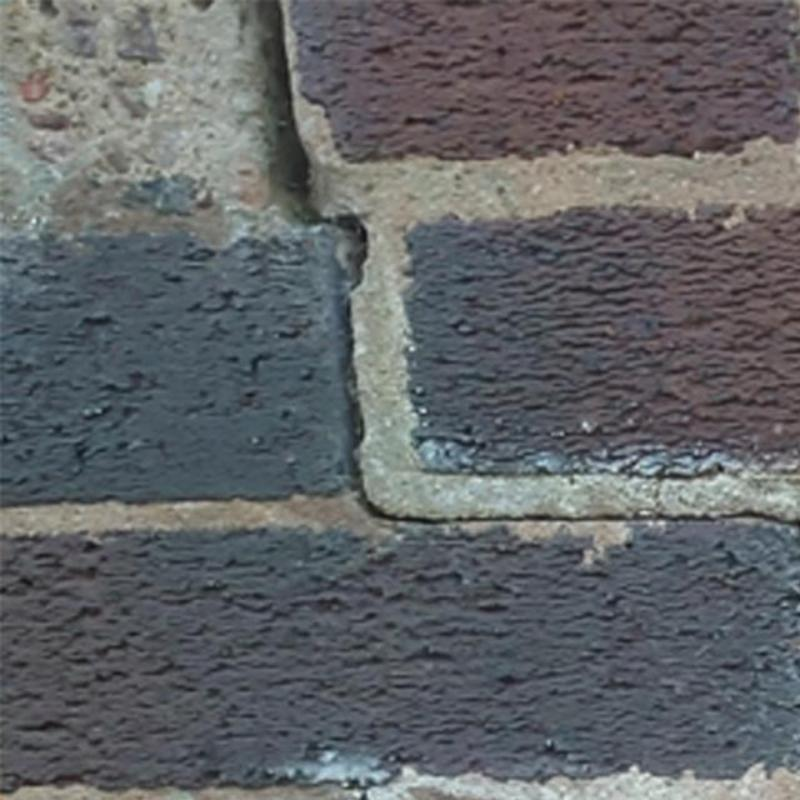pothole: (253, 4, 800, 530)
